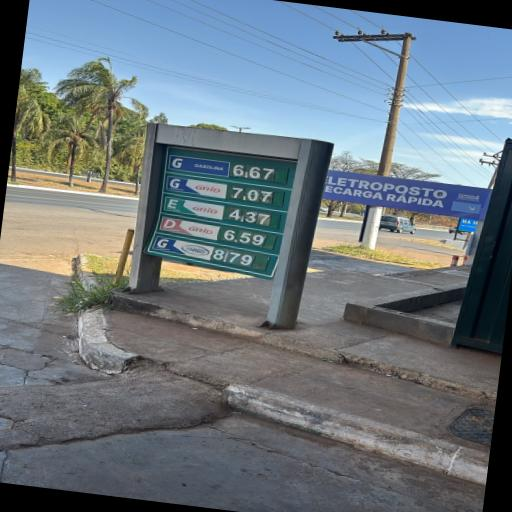ETANOL: (165, 197, 223, 219)
GASOLINA AD: (168, 176, 227, 200)
GASOLINA C: (172, 155, 229, 177)
S10: (159, 217, 219, 240)
placa: (154, 147, 298, 256)
preco: (225, 207, 273, 227), (221, 228, 267, 248), (232, 163, 276, 182), (230, 186, 274, 204)
